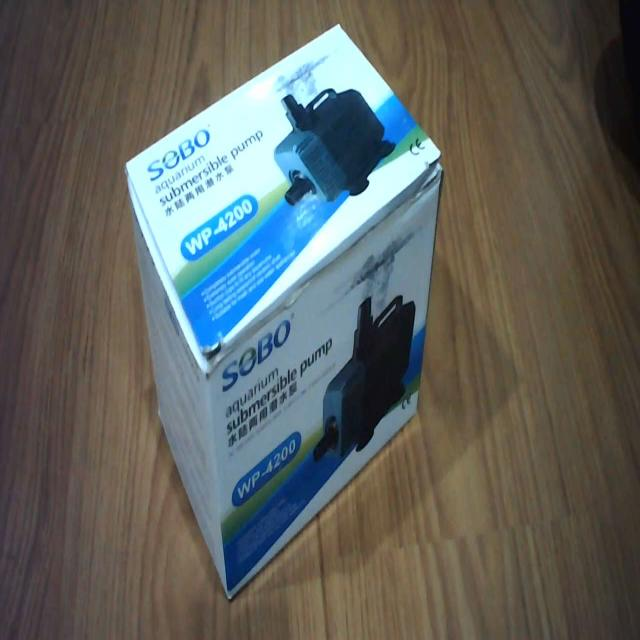SOBO_WP_4200: (119, 11, 449, 612)
